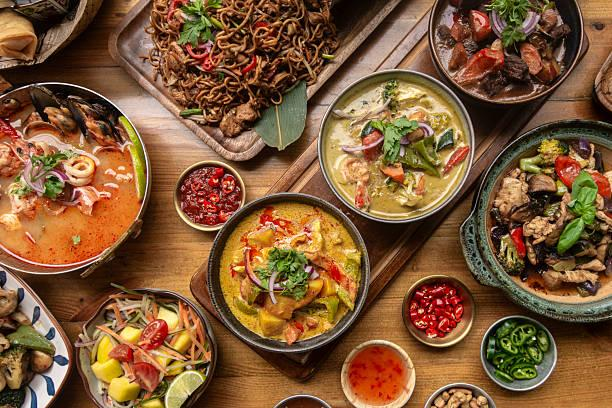Braised Crucian Carp: (458, 118, 609, 318), (2, 81, 151, 273), (206, 193, 365, 355), (144, 1, 337, 134), (318, 68, 468, 224), (427, 0, 582, 108), (74, 288, 215, 406)
